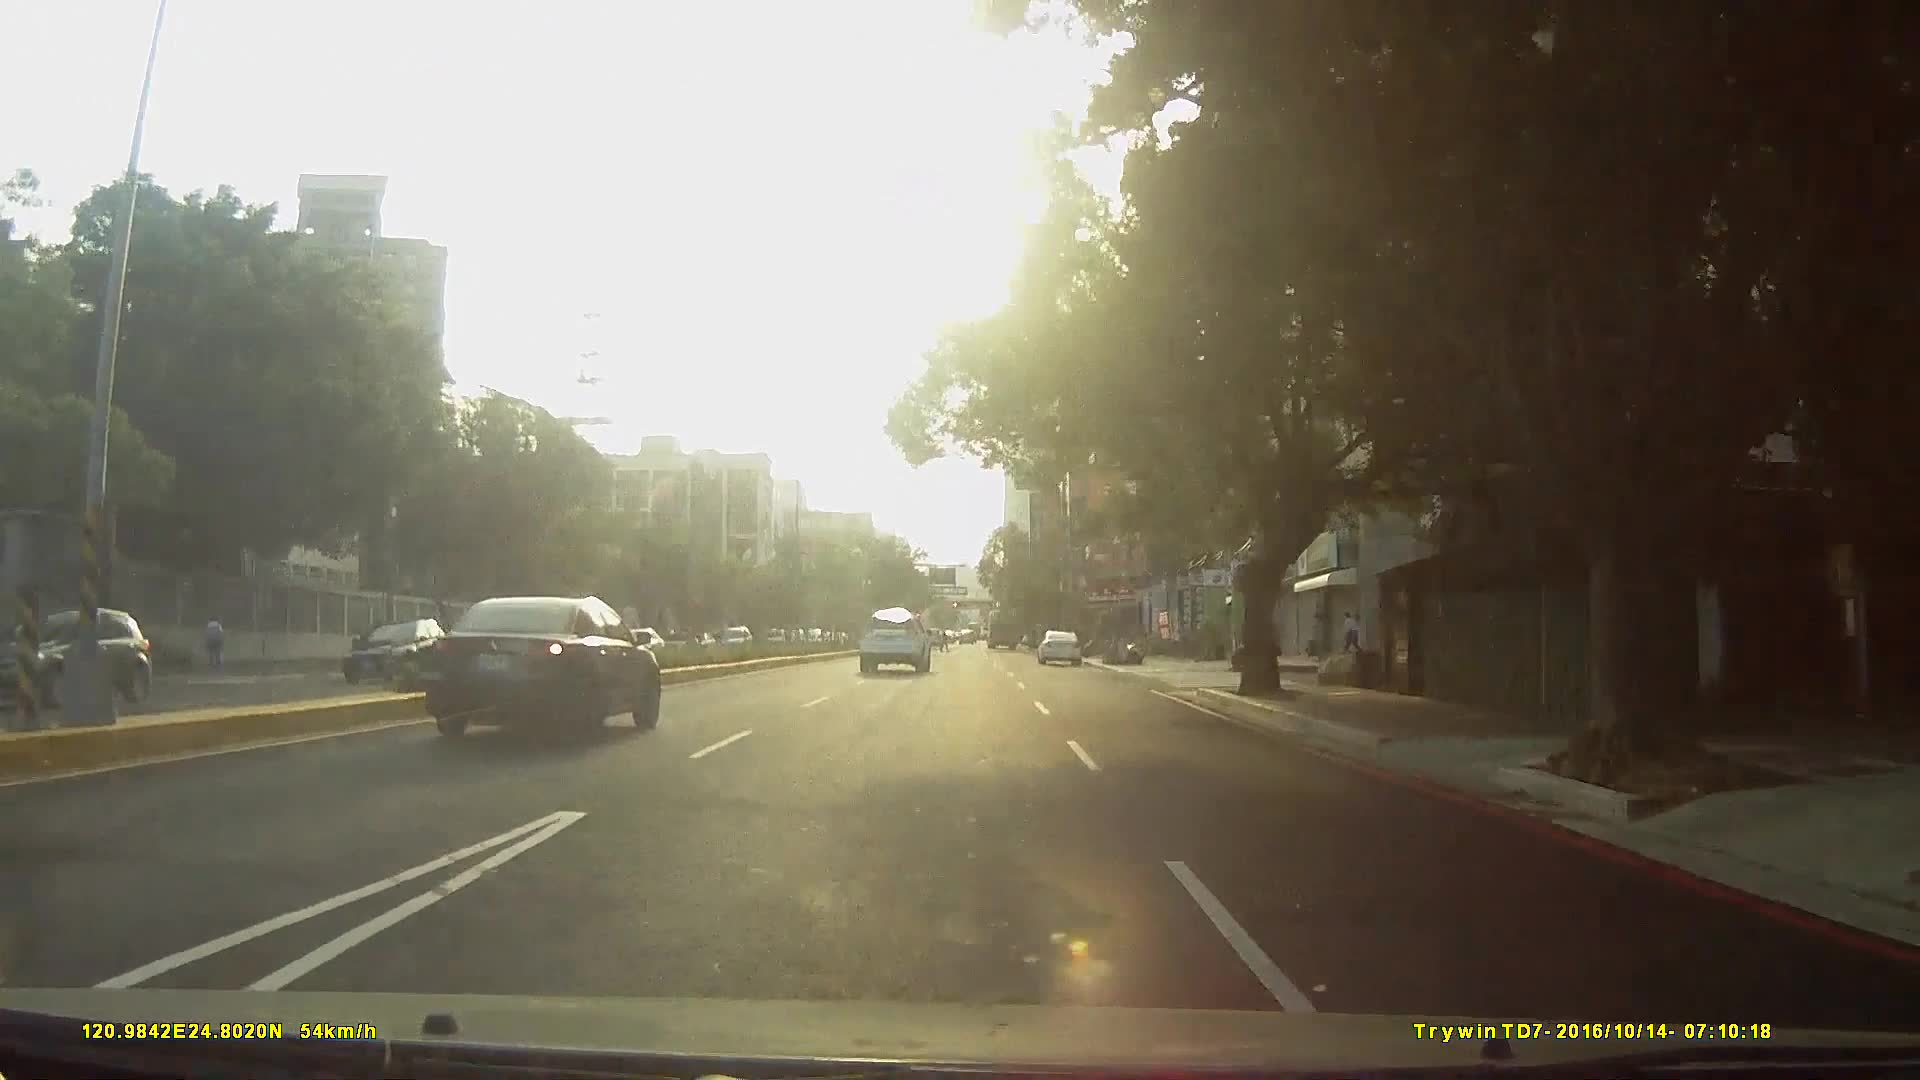pedestrian: (198, 613, 228, 671), (1343, 613, 1363, 659)
vehicle: (427, 591, 664, 747), (1, 605, 168, 721), (331, 616, 465, 686), (857, 602, 933, 673), (1035, 624, 1083, 665), (983, 603, 1022, 648)
